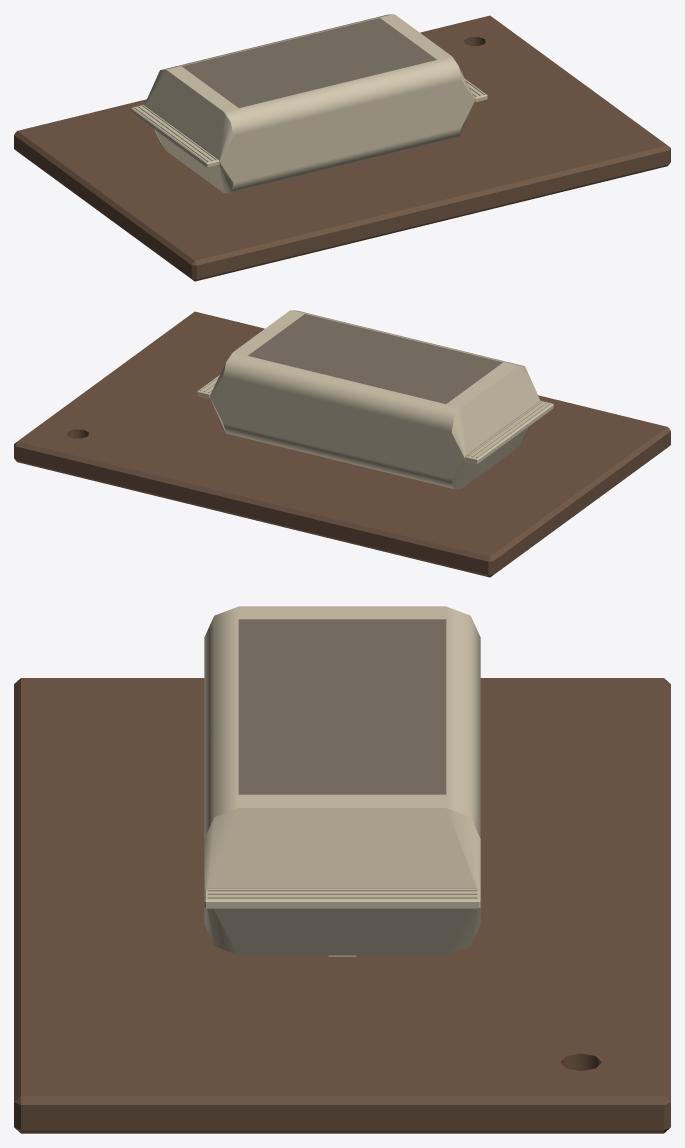
File: snack-serving-board-a80ed818b53a.glb
The picture shows the model from 3 angles, top to bottom: view 1: azimuth 30°, elevation 25°; view 2: azimuth 150°, elevation 25°; view 3: azimuth 270°, elevation 25°; orthographic projection. The views are drawn at different scales.
Visible parts, largest first — view 1: wood, paper, cover-print; view 2: wood, paper, cover-print; view 3: wood, paper, cover-print.
Boxes of the visible parts, box(x1,y1,x2,y2) form: wood: box(14, 15, 670, 281); paper: box(131, 14, 487, 193); cover-print: box(182, 18, 436, 107); wood: box(14, 311, 670, 577); paper: box(197, 310, 553, 489); cover-print: box(248, 314, 502, 403); wood: box(14, 678, 670, 1133); paper: box(204, 606, 480, 956); cover-print: box(238, 619, 446, 794).
Bounding box in the file's own units: 0.29 × 0.0601 × 0.19.
